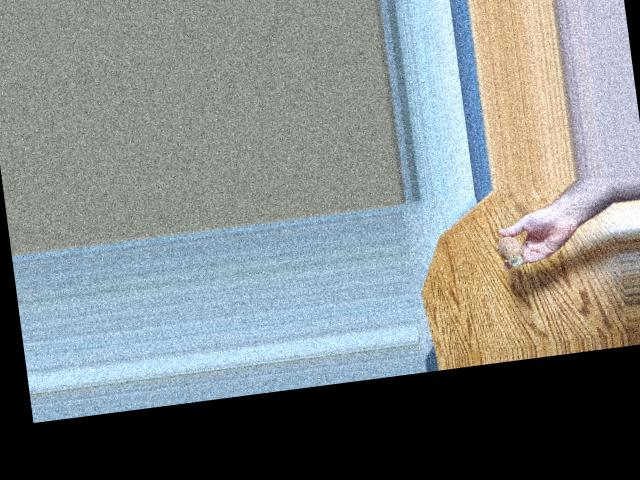sweet_potato: (485, 230, 524, 270)
